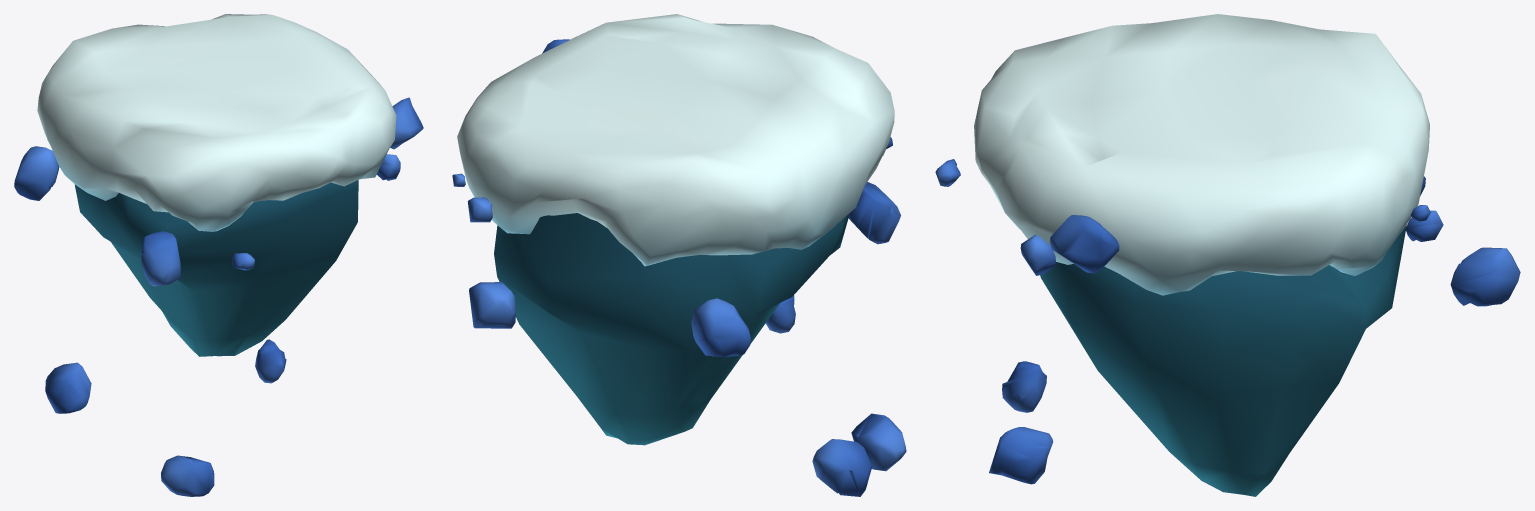
File: Winter_Floating_Isle_0_1.fbx
The picture shows the model from 3 angles, left to right: view 1: azimuth 30°, elevation 25°; view 2: azimuth 150°, elevation 25°; view 3: azimuth 270°, elevation 25°; orthographic projection. The views are drawn at different scales.
Parts seen in each view (by area): view 1: Folliage_Floating_Rock1_0_1.001; view 2: Folliage_Floating_Rock1_0_1.001; view 3: Folliage_Floating_Rock1_0_1.001.
Part boxes in pixels (x1,y1,x2,y2): Folliage_Floating_Rock1_0_1.001: (14, 14, 423, 496); Folliage_Floating_Rock1_0_1.001: (452, 14, 906, 496); Folliage_Floating_Rock1_0_1.001: (935, 14, 1520, 496).
Size of the model in its own units: 1048 by 1091 by 1261.
